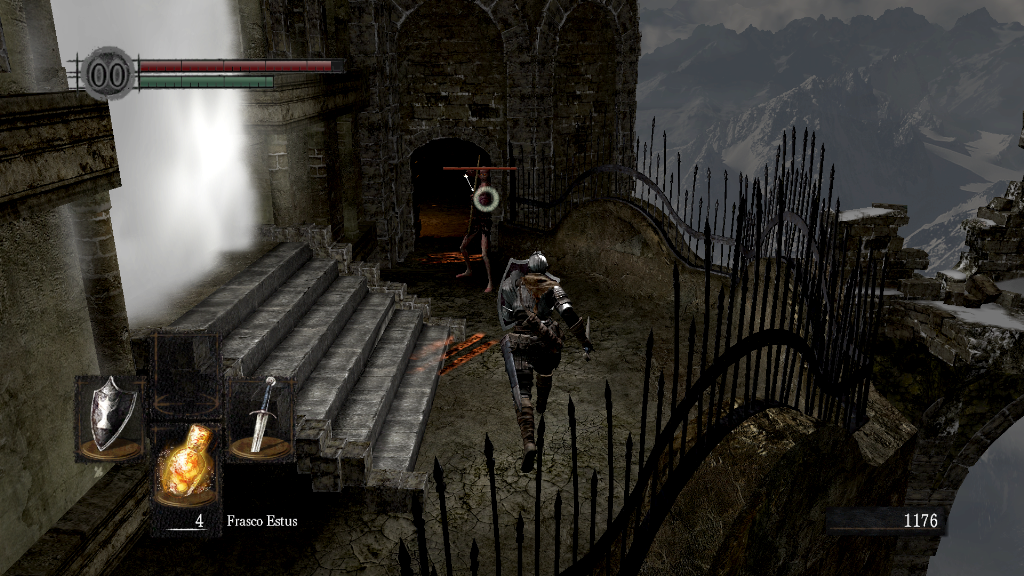health: (138, 58, 343, 71)
hollow: (453, 167, 500, 295)
humanity: (80, 45, 136, 102)
player: (494, 251, 596, 477)
souls: (825, 506, 945, 536)
stamina: (138, 74, 274, 88)
